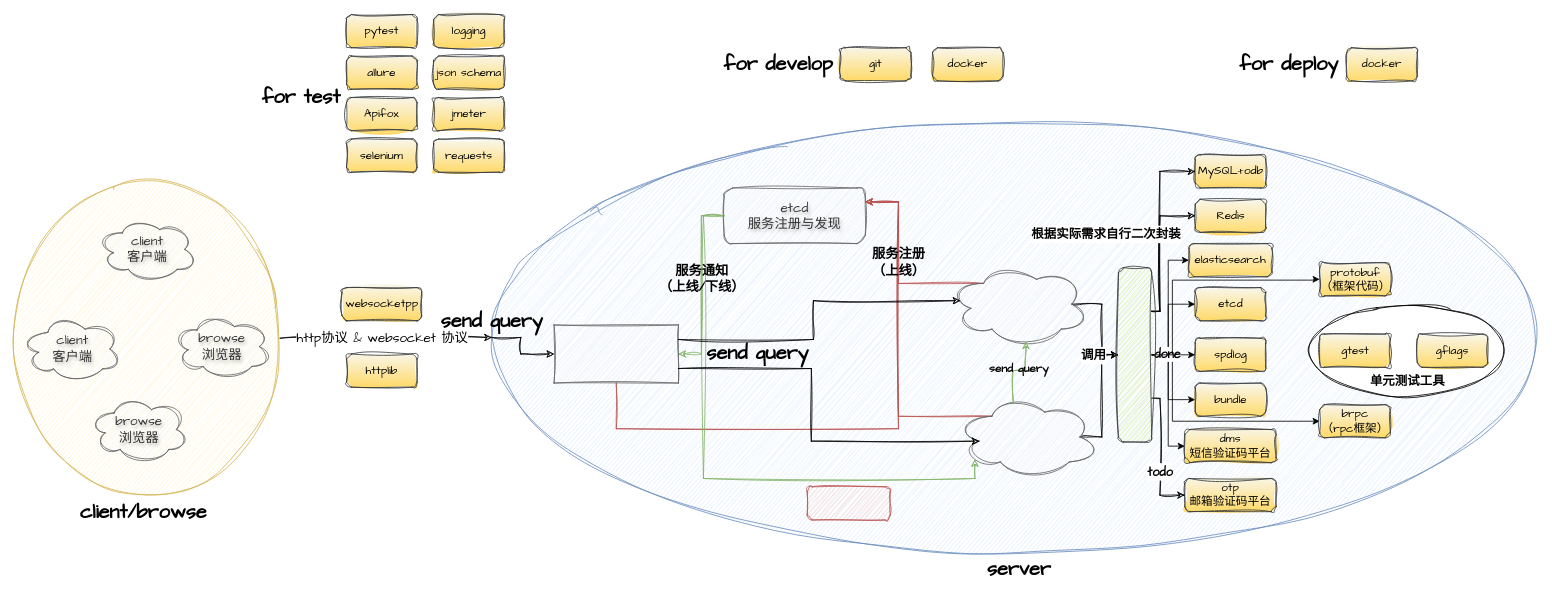
This 1552x601 diagram has some shape labels left out. Each missing label, with the centre of its shape:
file 文件子服务: the point at 1018,304
gateway 入口网关子服务: the point at 616,353
RPC通信: the point at 848,503
user 用户子服务: the point at 1027,436
二 次 封 装 ------ 脚 手 架: the point at 1135,354
